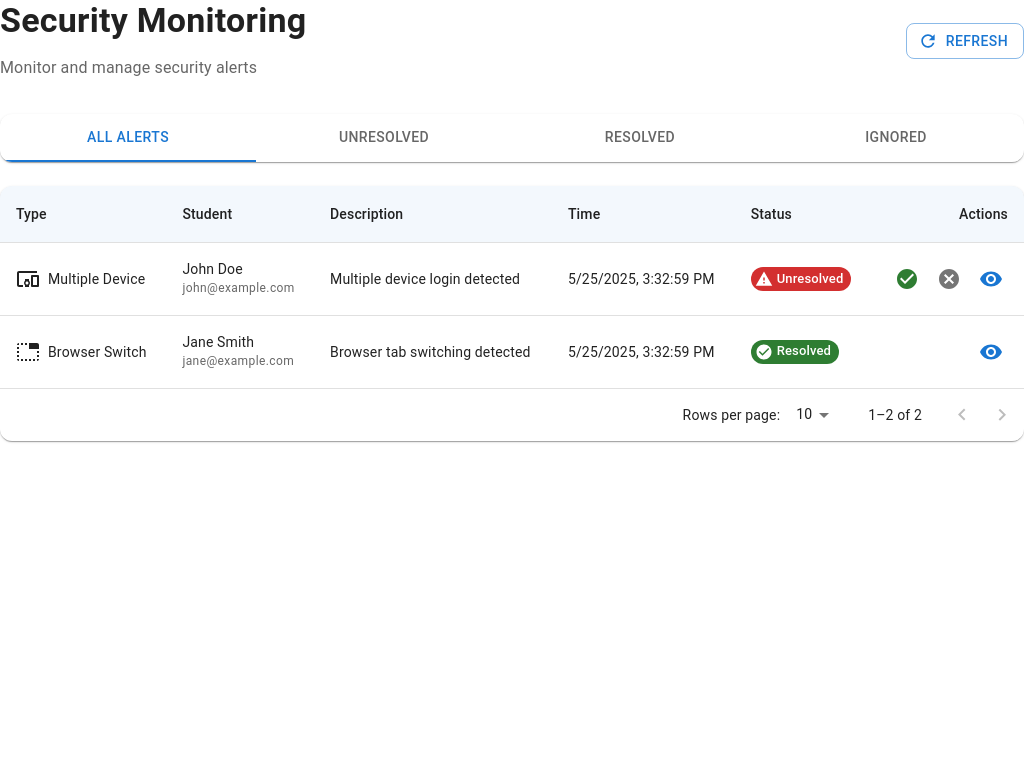
Test case: SecurityMonitoring Component › opens resolve dialog when resolve button is clicked
Note: Find and click the resolve button (using title attribute)
Click the button titled "Resolve" at point(907, 279), box [890, 262, 924, 296]
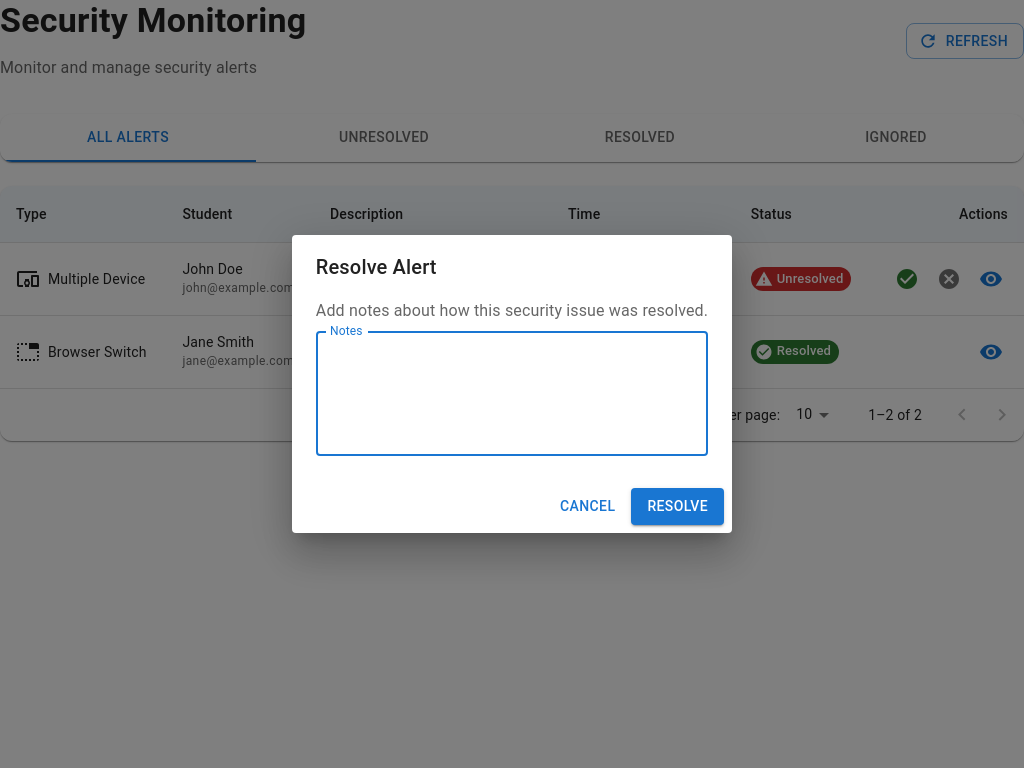
Expected: the heading "Resolve Alert" is shown, [316, 255, 437, 279]
Expected: the text "Add notes about how this security issue was resolved." is shown, [316, 299, 708, 323]
